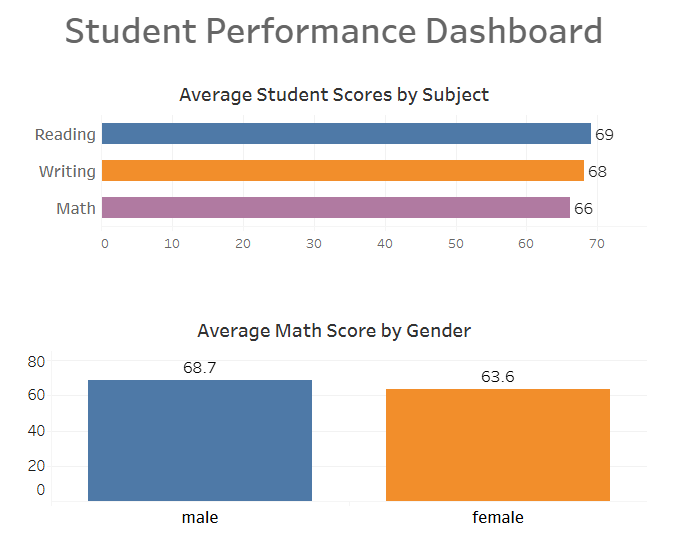

The dashboard page shown, as its layout file describes it:
{"tool":"tableau","page":{"name":"Student Performance Overview","canvas":[650,860],"ordinal":0},"visuals":[{"type":"text","box":[8,11.8,634,124.9]},{"type":"worksheet","title":"Average Scores by Subject","mark":"Automatic","box":[8,136.7,634,294]},{"type":"blank","box":[8,430.7,634,69.1]},{"type":"worksheet","title":"Average Math Score by Gender","mark":"Automatic","rows":["math score"],"cols":["gender"],"box":[8,499.8,634,348.4]}]}

Visuals, with their boxes on the page's 650x860 design canvas (x1, y1, x2, y2). These are canvas units, not pixel positions in the 675x539 screenshot, which may show the page scaled, cropped or inside an application window:
text: (left=8, top=12, right=642, bottom=137)
"Average Scores by Subject" worksheet: (left=8, top=137, right=642, bottom=431)
blank: (left=8, top=431, right=642, bottom=500)
"Average Math Score by Gender" worksheet: (left=8, top=500, right=642, bottom=848)
